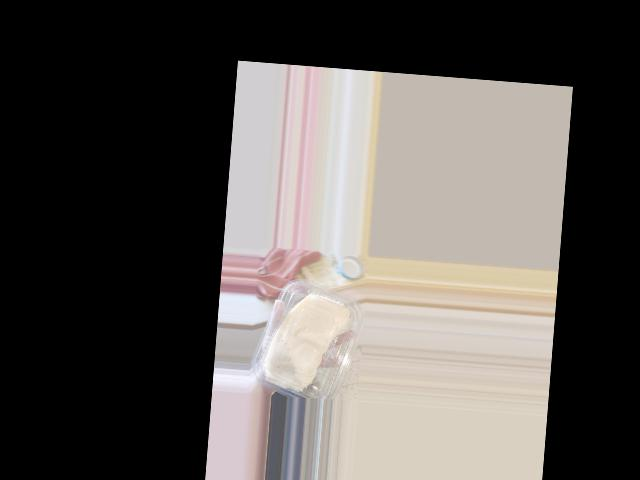cheese: (255, 275, 362, 402)
